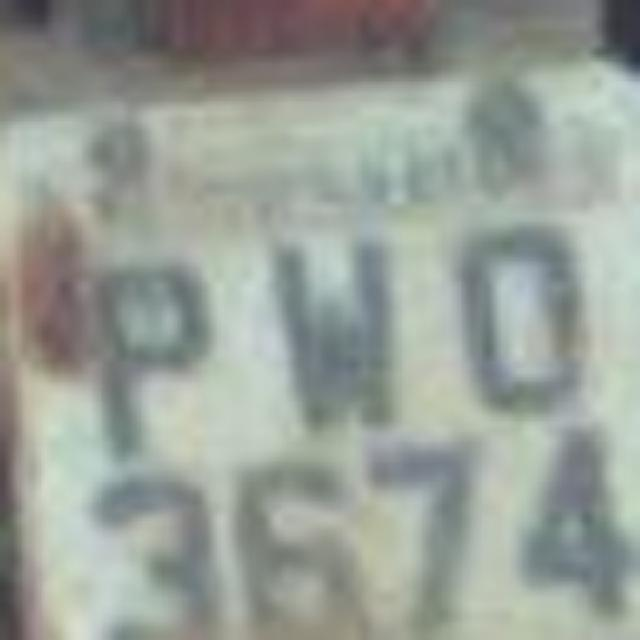3: (0, 1, 1, 2)
4: (464, 420, 631, 640)
6: (0, 1, 1, 2)
7: (340, 432, 485, 628)
O: (428, 220, 612, 440)
P: (80, 224, 212, 448)
W: (260, 211, 415, 444)
